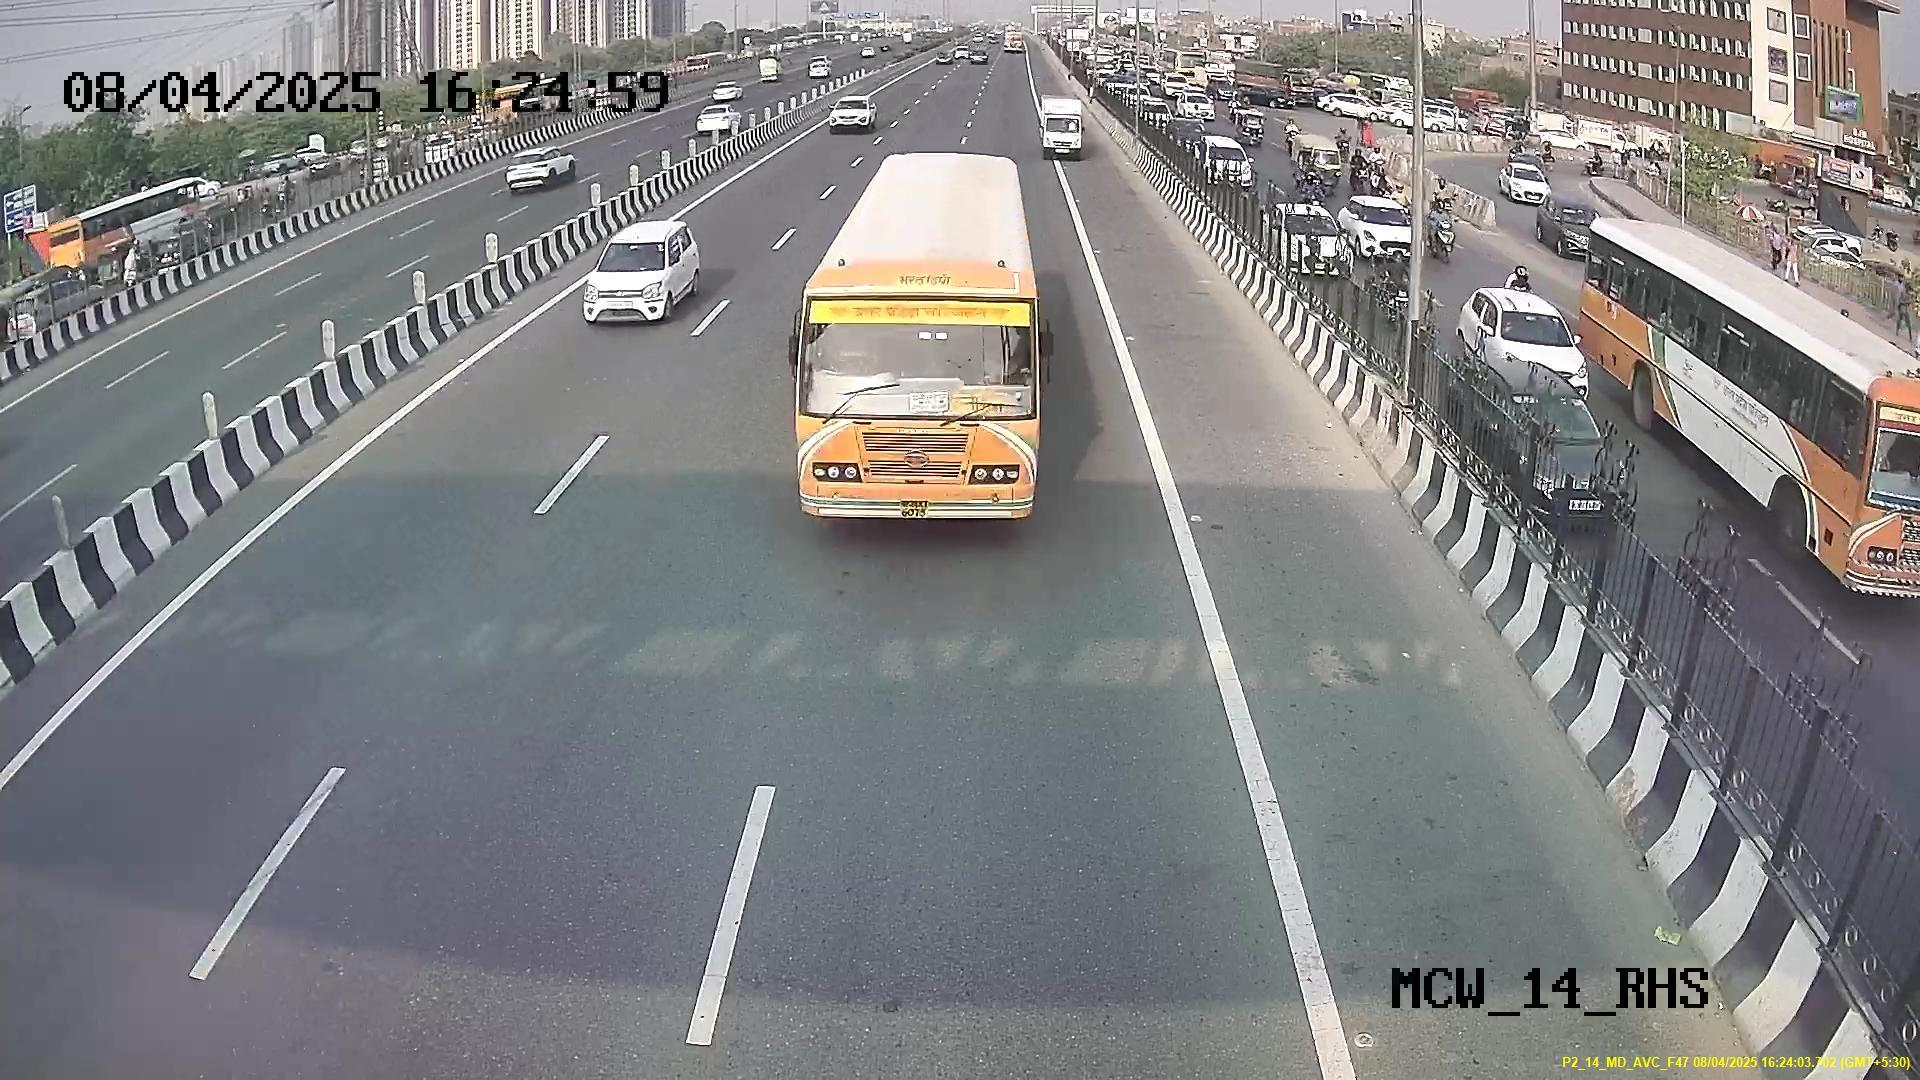bus: (777, 239, 1056, 541)
car: (579, 228, 688, 327)
